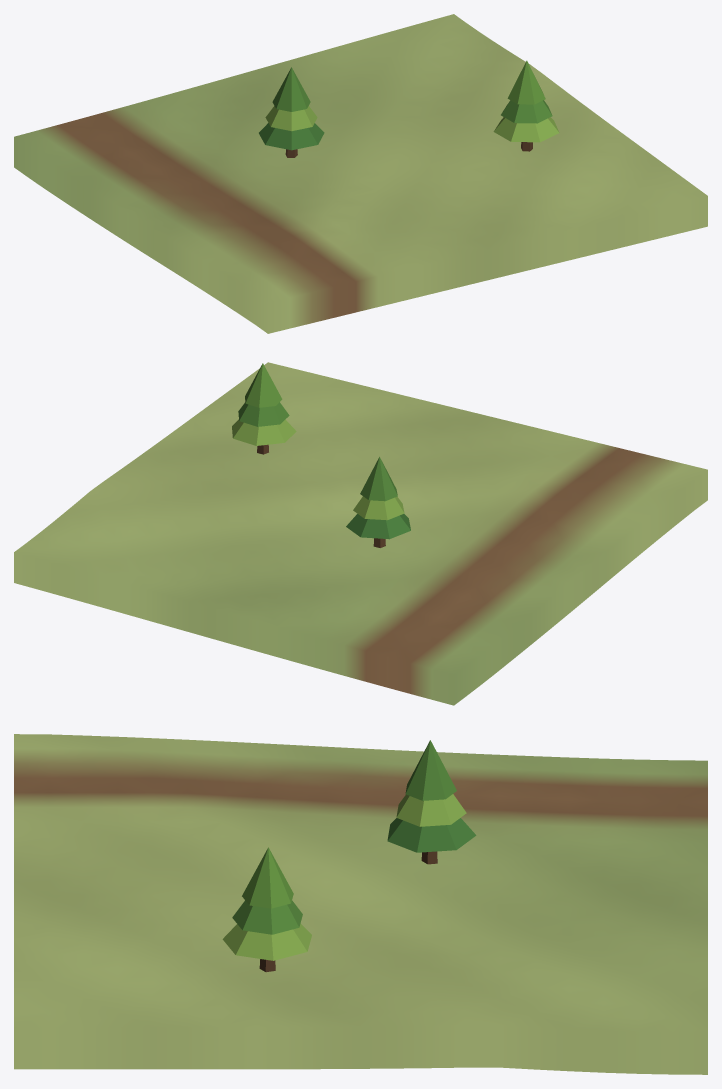
3 renders of one model, top to bottom at view 1: azimuth 30°, elevation 25°; view 2: azimuth 150°, elevation 25°; view 3: azimuth 270°, elevation 25°, orthographic. The views are drawn at different scales.
Visible parts, largest first — view 1: terrain, scenery; view 2: terrain, scenery; view 3: terrain, scenery.
Boxes of the visible parts, bbox=[...] form: terrain: bbox=[14, 14, 707, 333]; scenery: bbox=[259, 60, 559, 157]; terrain: bbox=[14, 362, 707, 705]; scenery: bbox=[232, 363, 410, 547]; terrain: bbox=[14, 734, 707, 1074]; scenery: bbox=[222, 740, 476, 972].
Bounding box in the file's own units: 30 × 9.07 × 30.
